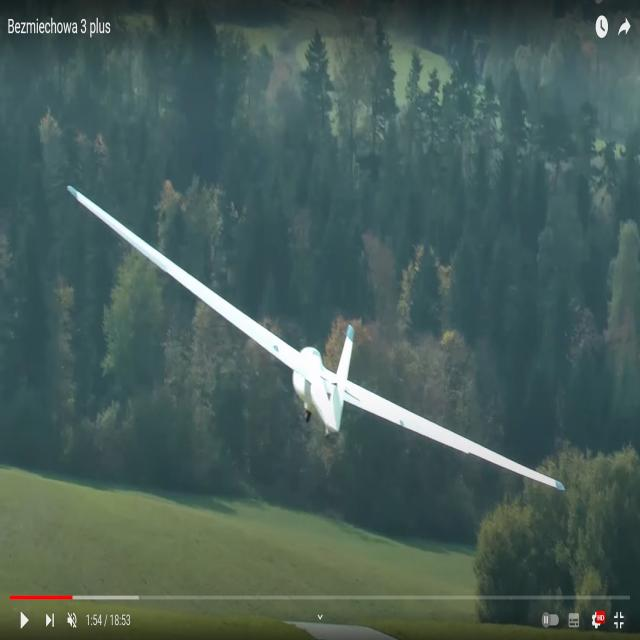iha: (65, 181, 568, 498)
